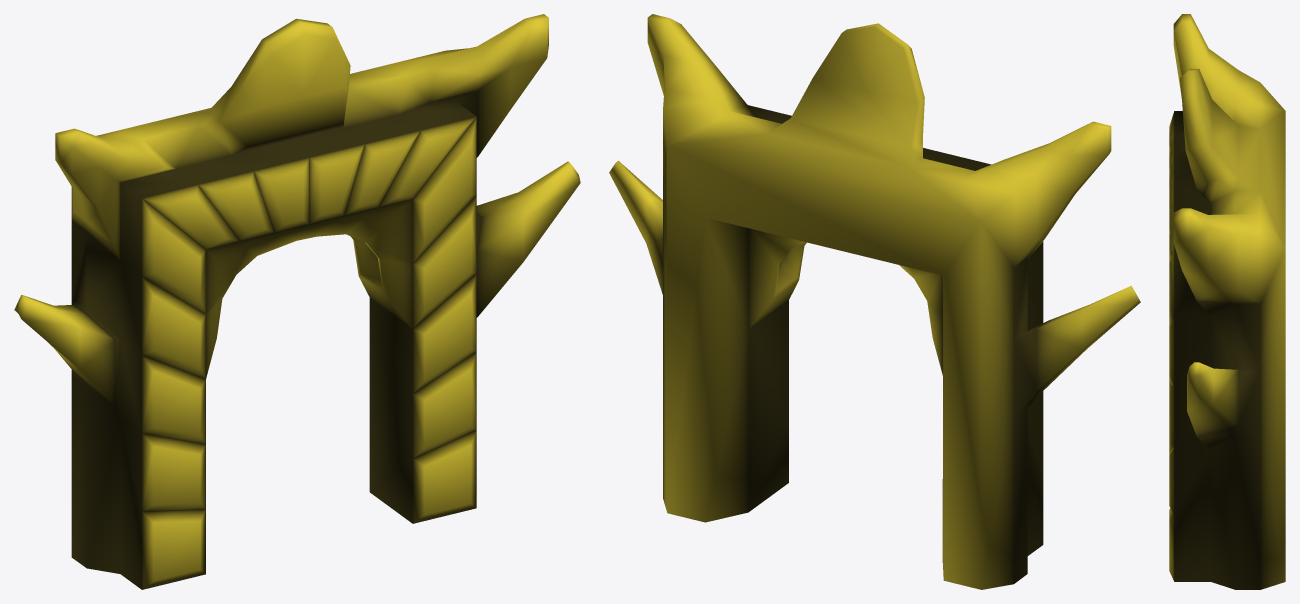
The model's file is Portal1.fbx.
3 views of the same model, side by side, from view 1: azimuth 30°, elevation 25°; view 2: azimuth 150°, elevation 25°; view 3: azimuth 270°, elevation 25° (orthographic). The views are drawn at different scales.
Parts seen in each view (by area): view 1: Portal1_LOD0; view 2: Portal1_LOD0; view 3: Portal1_LOD0.
Part boxes in pixels (bbox=[...]): Portal1_LOD0: bbox=[14, 14, 580, 589]; Portal1_LOD0: bbox=[609, 14, 1140, 589]; Portal1_LOD0: bbox=[1169, 14, 1285, 589].
Size of what is drawn, in the model's own units: 362 by 321 by 76.64.
